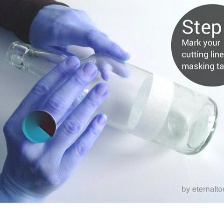bottle: (3, 36, 220, 160)
